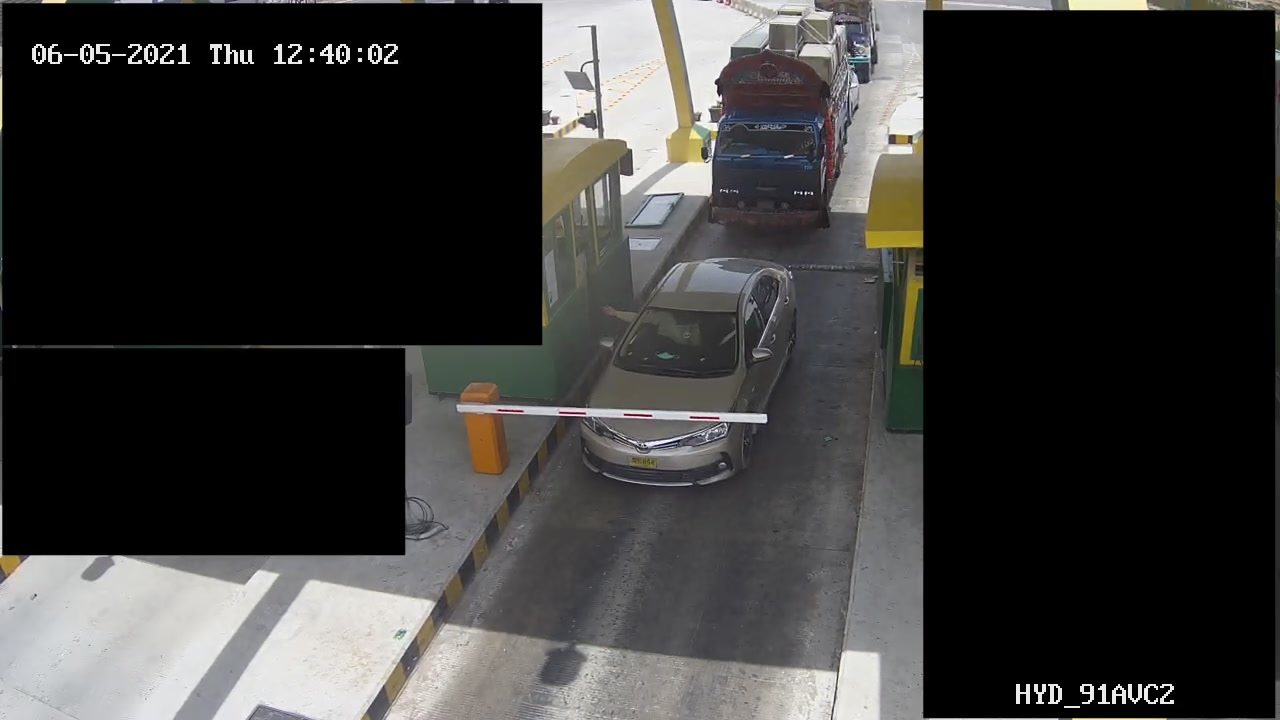F1: (587, 247, 794, 483)
F5: (702, 4, 846, 232)
